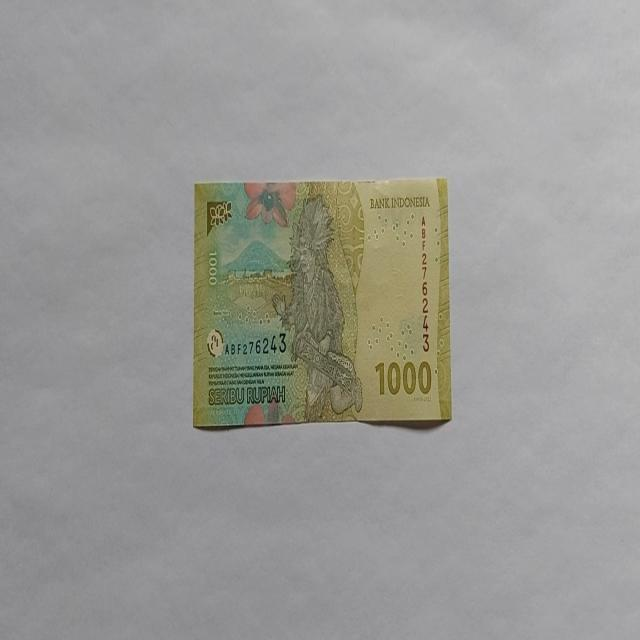seribu rupiah kertas: (192, 175, 452, 428)
